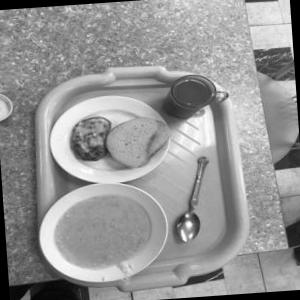bread: (100, 110, 169, 181)
cheese_sandwich: (63, 108, 118, 166)
coffee: (155, 60, 233, 130)
porridge: (40, 186, 169, 276)
